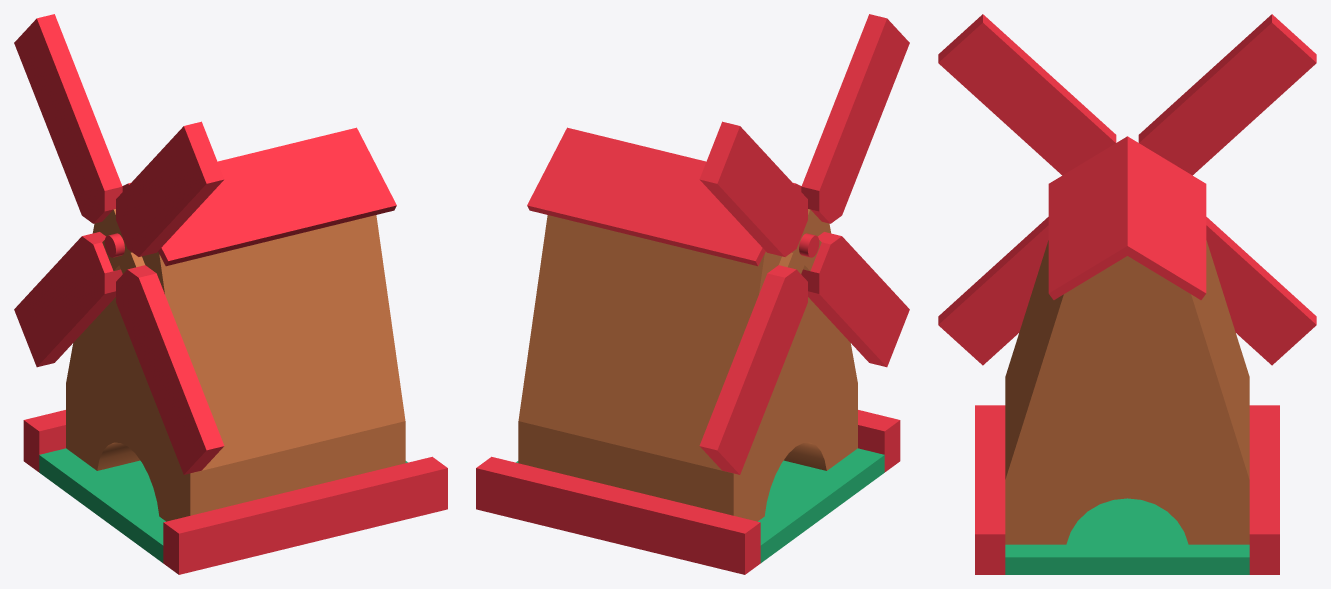
Rendered from windmill.obj.
3 views of the same model, side by side, from view 1: azimuth 30°, elevation 25°; view 2: azimuth 150°, elevation 25°; view 3: azimuth 270°, elevation 25° (orthographic).
Parts seen in each view (by area): view 1: windmill, blades; view 2: windmill, blades; view 3: windmill, blades.
Boxes of the visible parts, <box> form: windmill: <box>23,127,447,574</box>; blades: <box>14,14,224,474</box>; windmill: <box>476,127,900,574</box>; blades: <box>699,14,909,474</box>; windmill: <box>975,136,1279,574</box>; blades: <box>938,14,1316,365</box>.
Bounding box in the file's own units: 0.9999 × 1.58 × 1.24.
